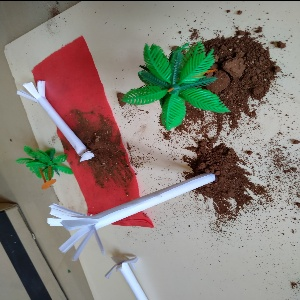plant: (122, 38, 229, 127), (20, 144, 74, 191)
weed: (36, 176, 221, 240), (11, 73, 102, 169), (105, 252, 158, 300)
